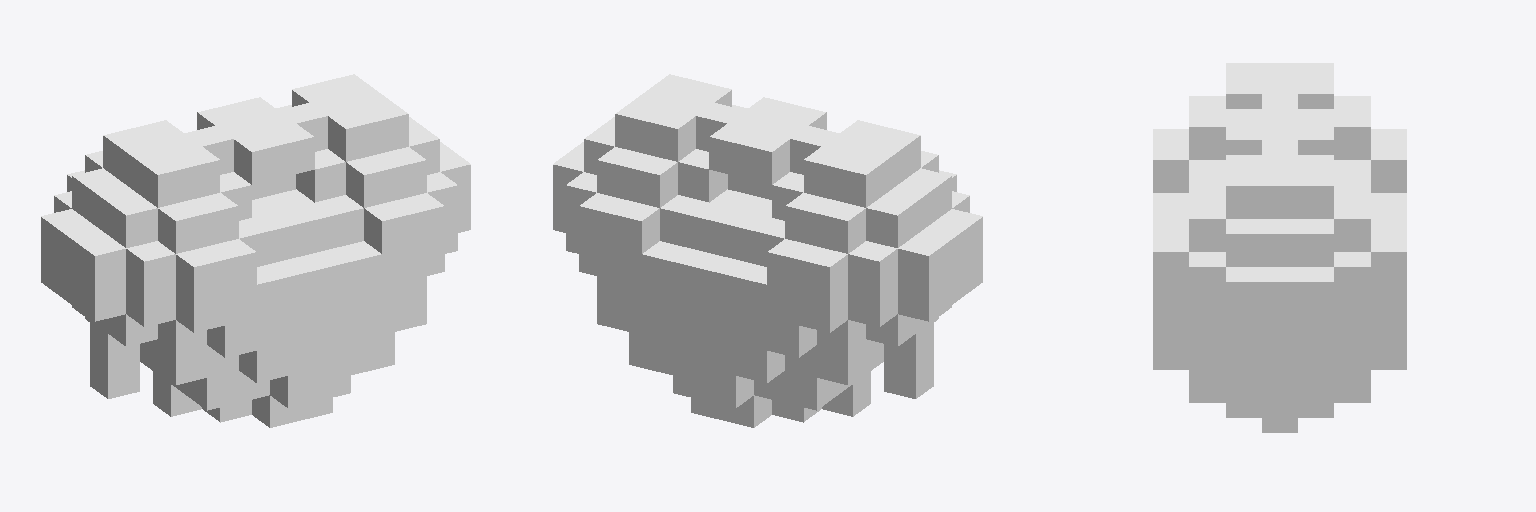
The model's file is LBody.obj.
3 views of the same model, side by side, from view 1: azimuth 30°, elevation 25°; view 2: azimuth 150°, elevation 25°; view 3: azimuth 270°, elevation 25° (orthographic).
Visible parts, largest first — view 1: object 1; view 2: object 1; view 3: object 1.
Part boxes in pixels (x1,y1,x2,y2): object 1: (41,74,470,427); object 1: (553,74,982,427); object 1: (1153,63,1406,432).
Size of the model in its own units: 1.2 by 0.8 by 0.7.